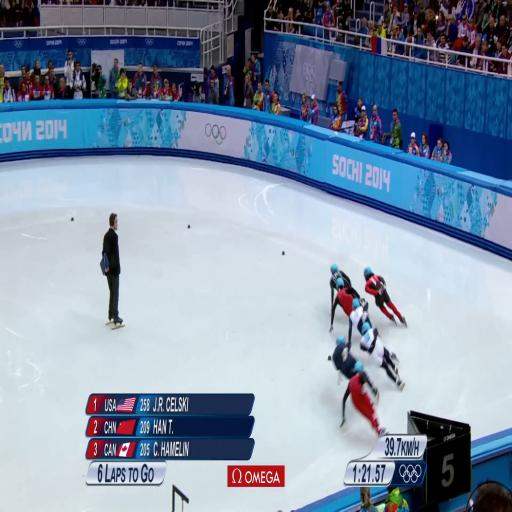Skater: (328, 336, 378, 401), (360, 322, 404, 390), (340, 373, 386, 436), (364, 267, 407, 326), (330, 278, 364, 332), (330, 264, 359, 307), (349, 299, 371, 343)
